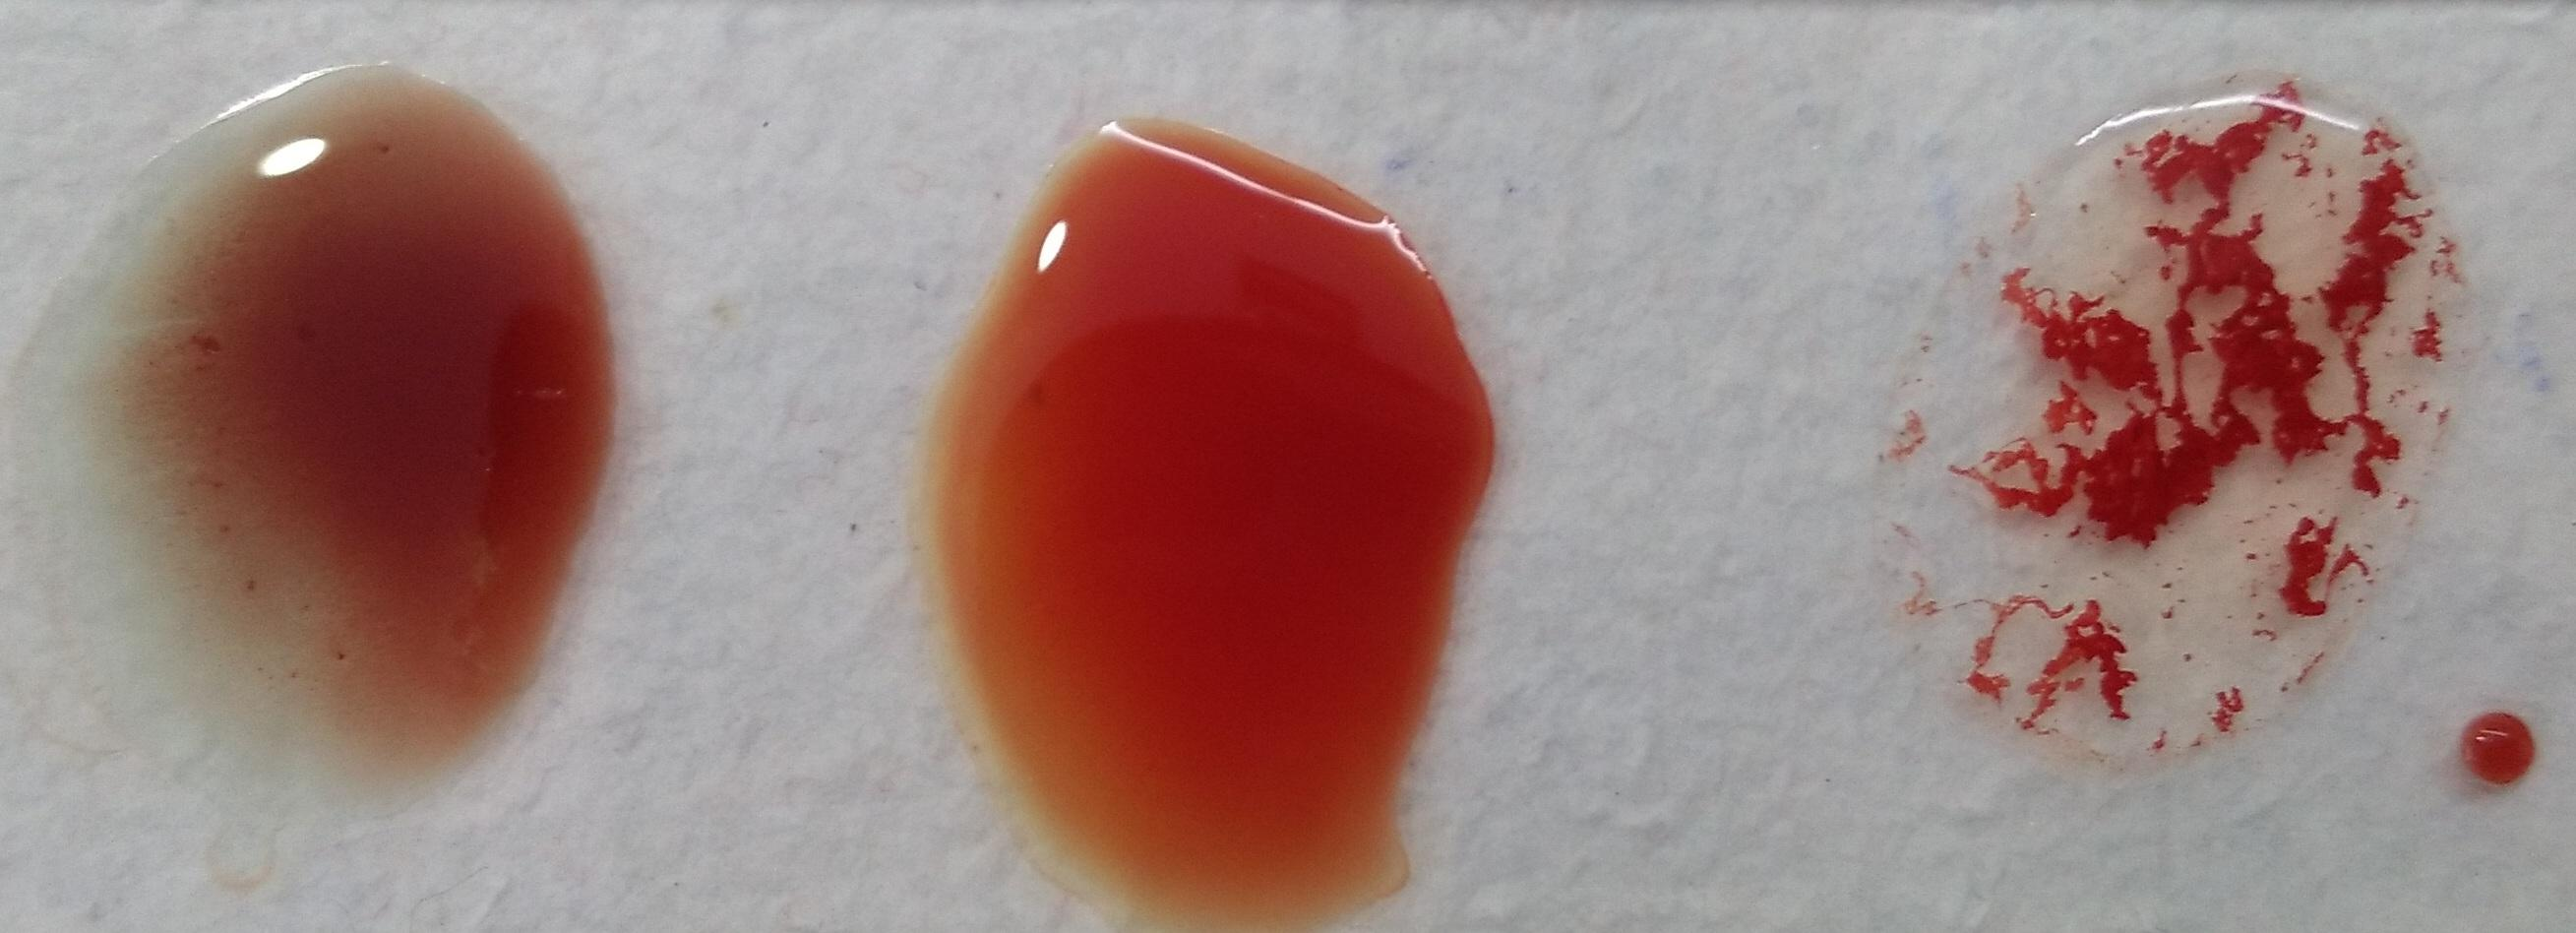D: (1888, 94, 2438, 756)
